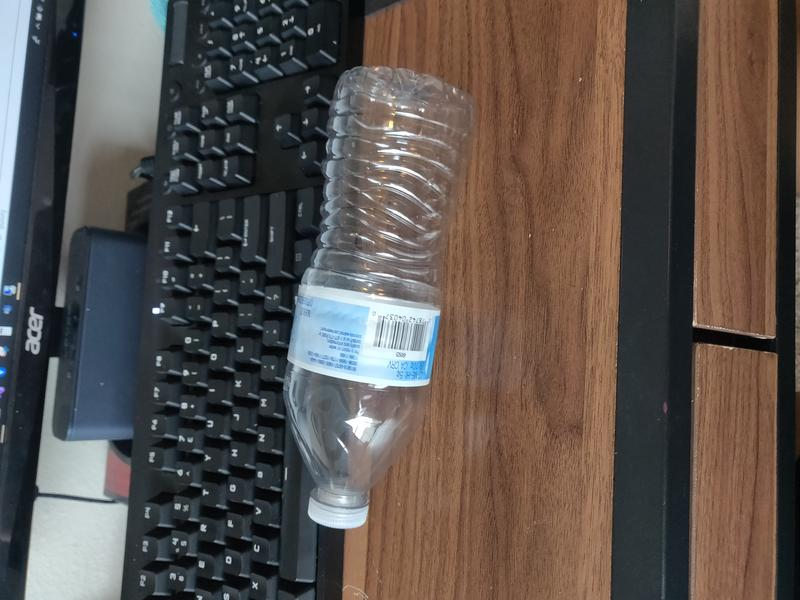bottle: (281, 65, 475, 530)
